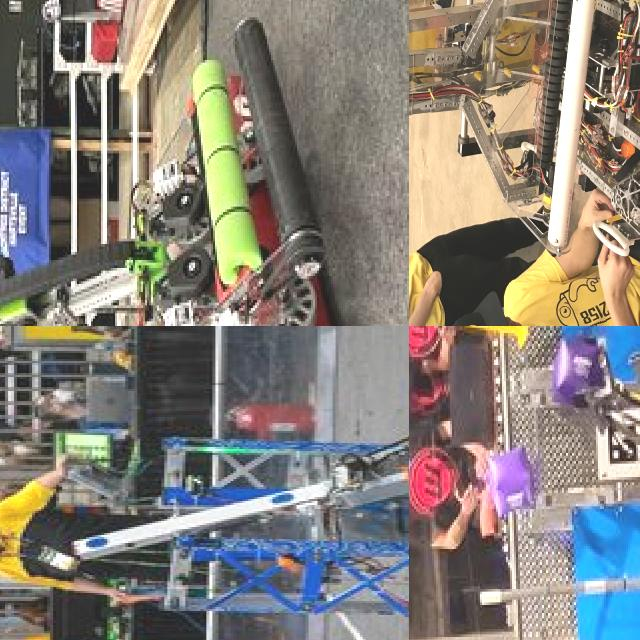FRC-Robots: (0, 2, 400, 326), (76, 357, 409, 638), (409, 0, 640, 276), (537, 326, 640, 545)
